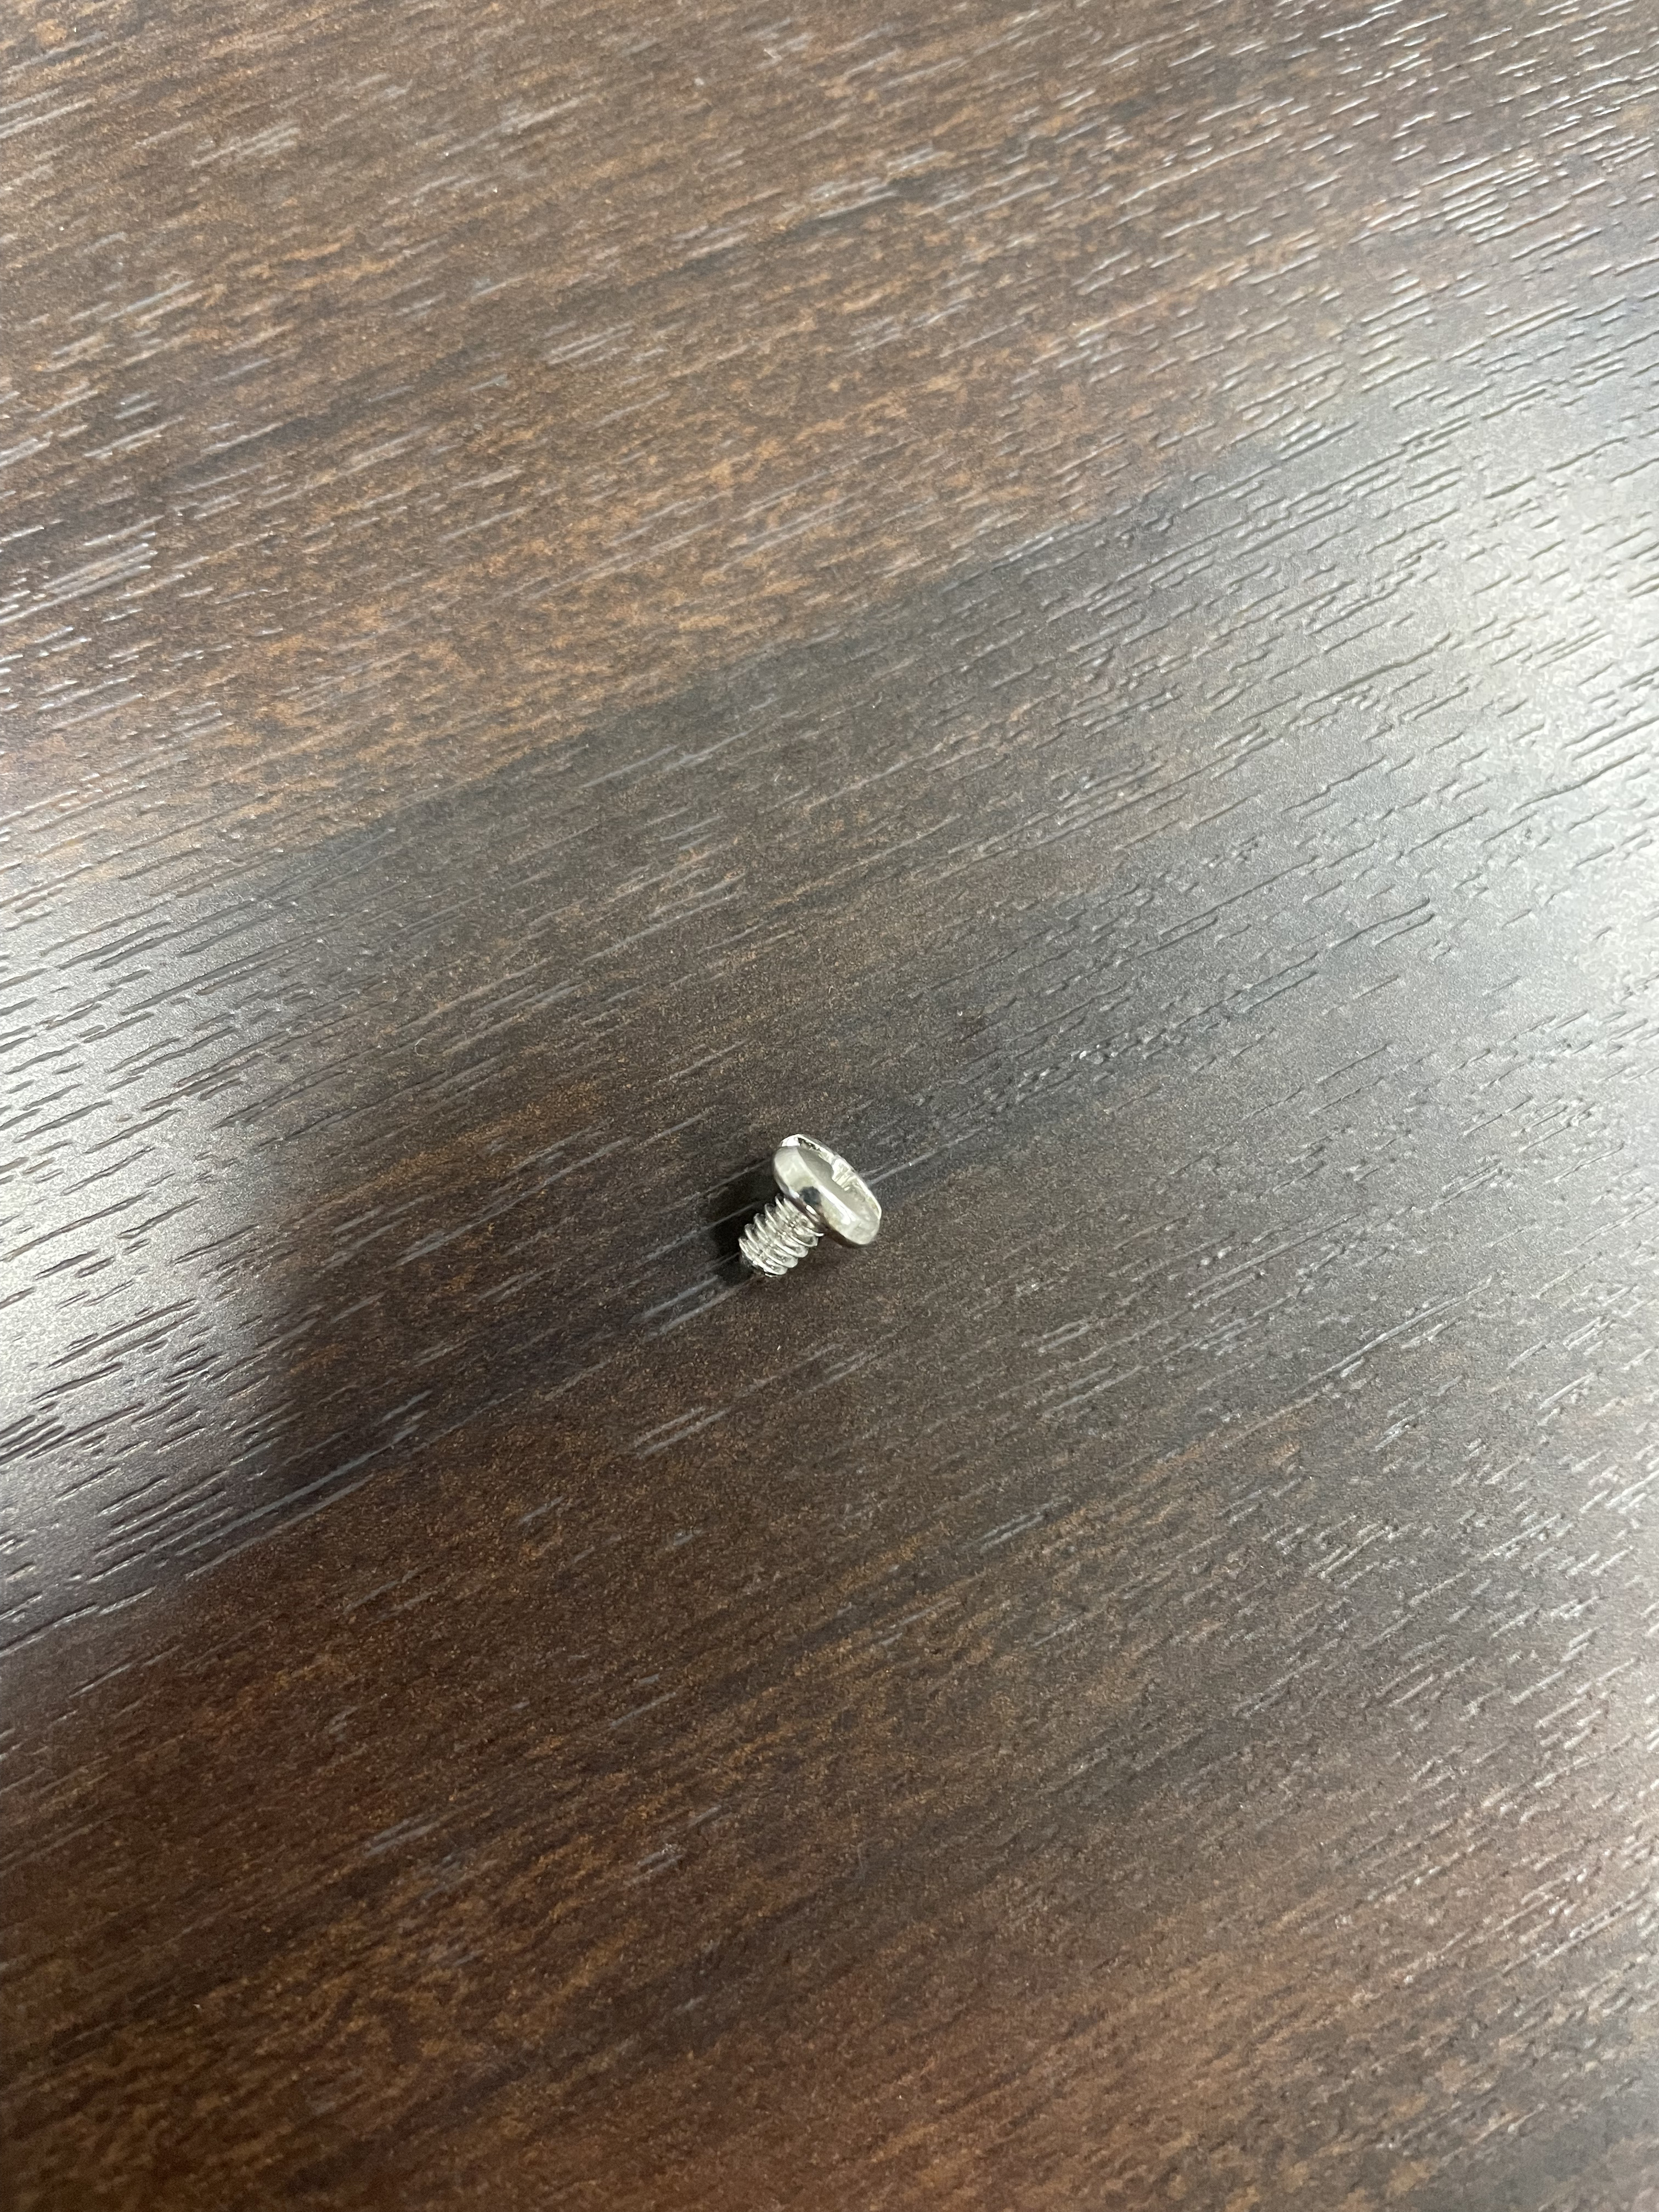screw4: (737, 1133, 885, 1285)
